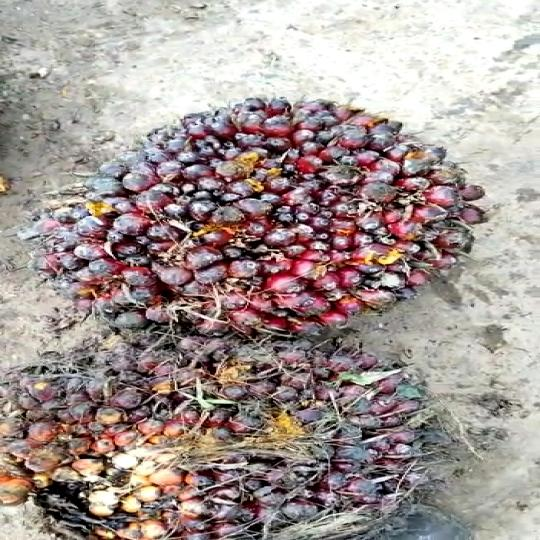kurang masak: (41, 90, 499, 323), (0, 333, 430, 539)
